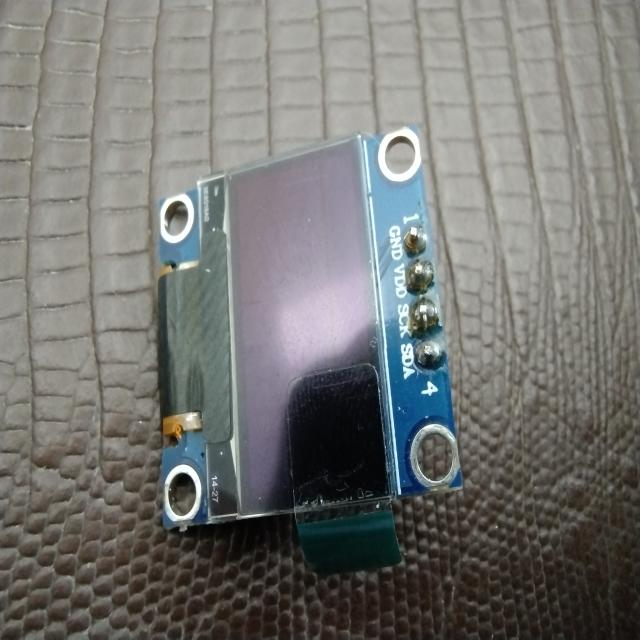oled: (146, 118, 475, 579)
